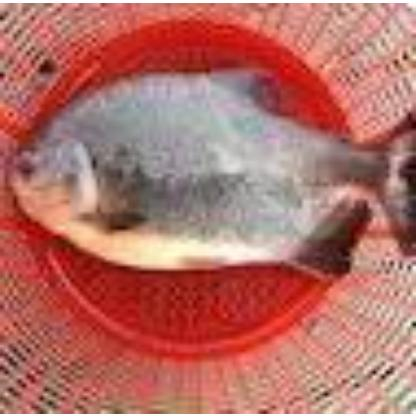ikan-pacu: (17, 68, 413, 268)
